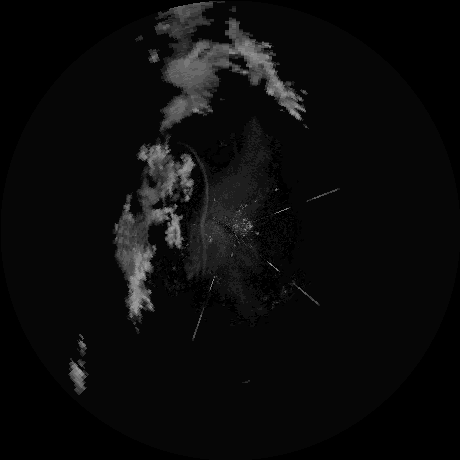frontgust: (192, 152, 211, 277)
